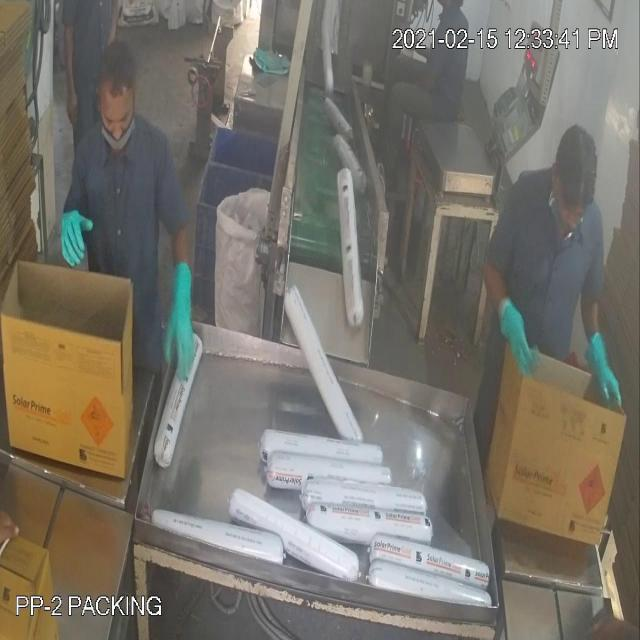Gloves: (46, 78, 603, 364)
